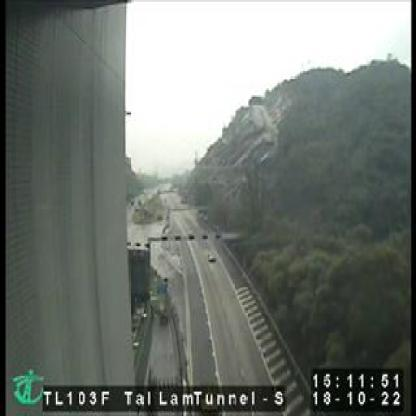Car: (207, 248, 218, 263)
